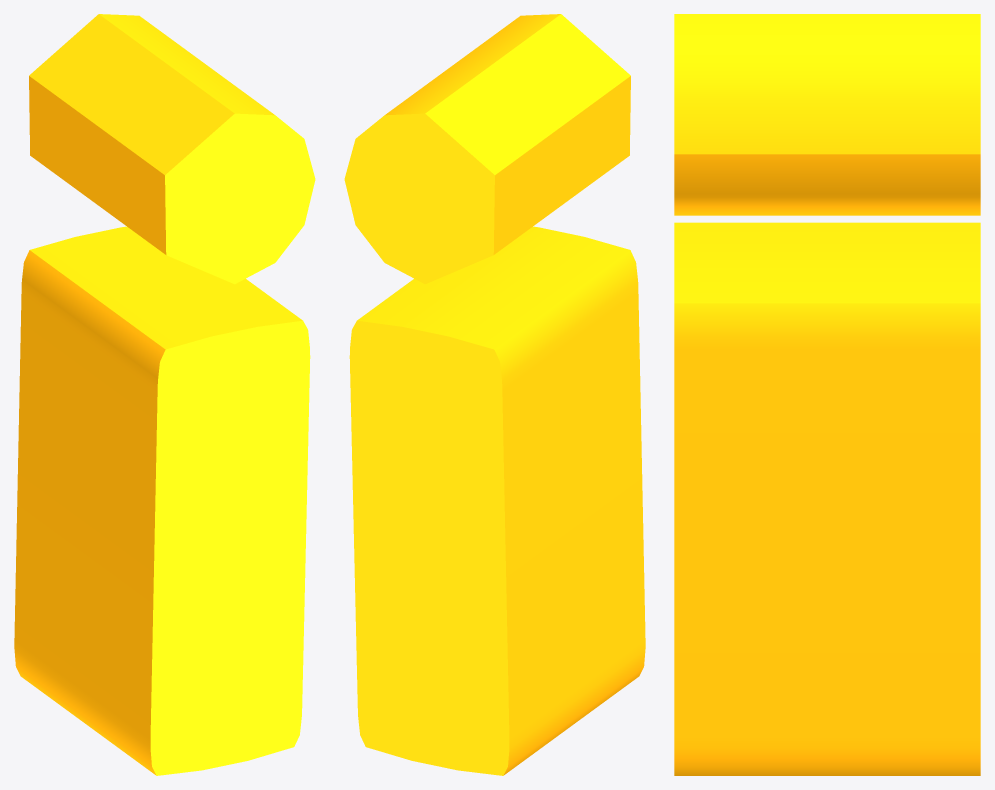
File: I_Zyzol_Yellow.glb
3 views of the same model, side by side, from view 1: azimuth 30°, elevation 25°; view 2: azimuth 150°, elevation 25°; view 3: azimuth 270°, elevation 25° (orthographic). The views are drawn at different scales.
Visible parts, largest first — view 1: i_Zyzol_Yellow; view 2: i_Zyzol_Yellow; view 3: i_Zyzol_Yellow.
Part boxes in pixels (x1=…): i_Zyzol_Yellow: x1=14, y1=14, x2=315, y2=775; i_Zyzol_Yellow: x1=344, y1=14, x2=645, y2=775; i_Zyzol_Yellow: x1=674, y1=14, x2=980, y2=775.
Size of what is drawn, in the model's own units: 0.0315 by 0.1187 by 0.045.
Materials: 2 (2 with a texture image).
